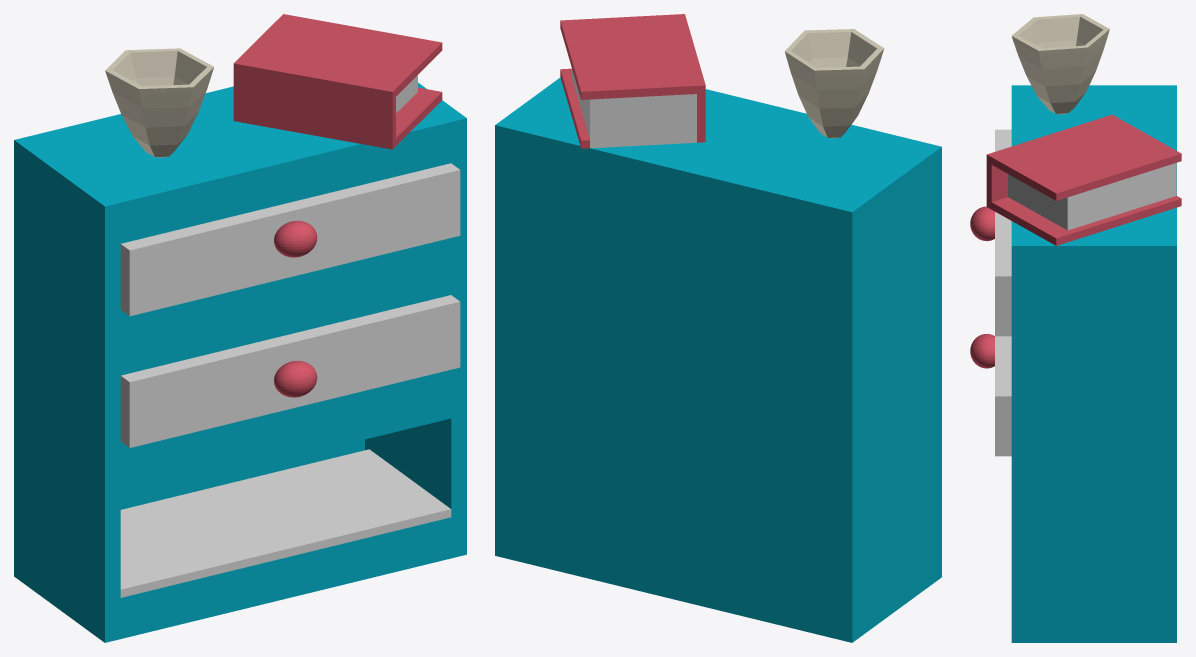
File: Pro-149.glb
The picture shows the model from 3 angles, left to right: view 1: azimuth 30°, elevation 25°; view 2: azimuth 150°, elevation 25°; view 3: azimuth 270°, elevation 25°; orthographic projection. The views are drawn at different scales.
Parts seen in each view (by area): view 1: Mesh_Mesh_head_geo.001_lambert2SG.001; view 2: Mesh_Mesh_head_geo.001_lambert2SG.001; view 3: Mesh_Mesh_head_geo.001_lambert2SG.001.
Part boxes in pixels (x1=…): Mesh_Mesh_head_geo.001_lambert2SG.001: x1=14, y1=14, x2=466, y2=642; Mesh_Mesh_head_geo.001_lambert2SG.001: x1=495, y1=14, x2=941, y2=642; Mesh_Mesh_head_geo.001_lambert2SG.001: x1=970, y1=14, x2=1181, y2=642.
Size of the model in its own units: 46 by 65 by 25.6.
